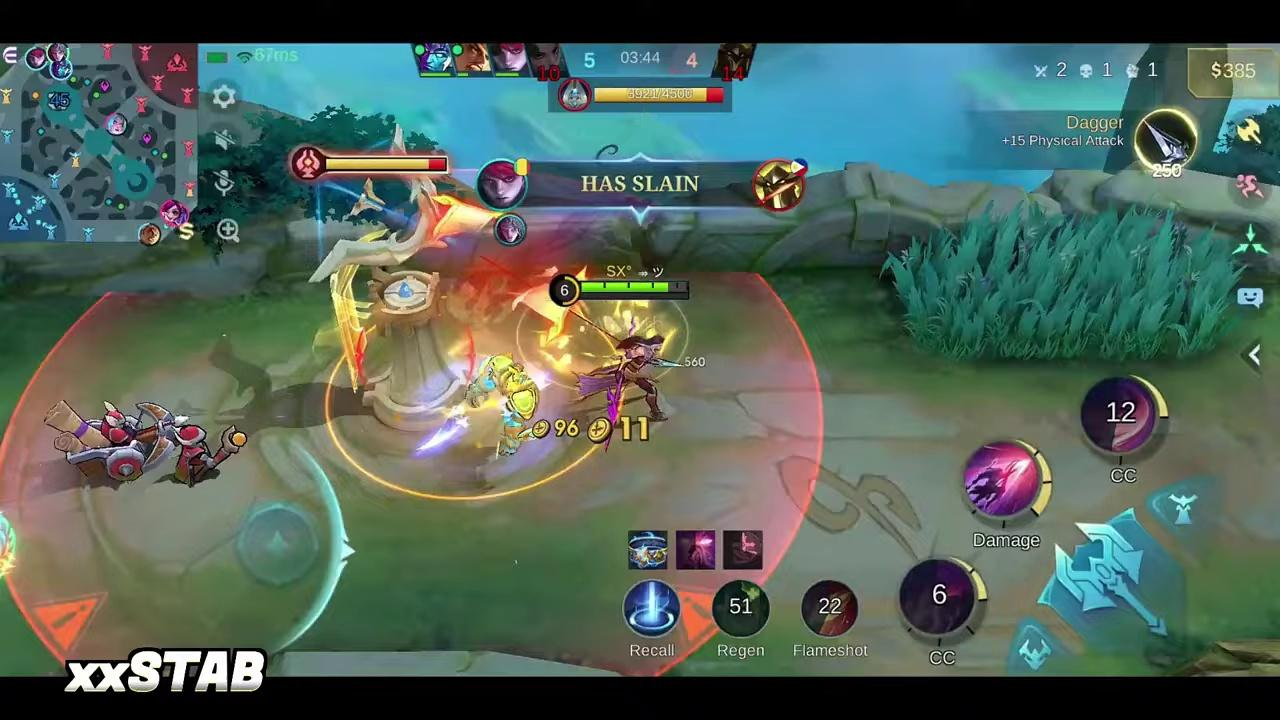bush: (889, 200, 1250, 360)
hp_self: (580, 282, 690, 292)
minion_ally: (49, 399, 213, 481)
turret_enemy: (220, 88, 630, 272)
